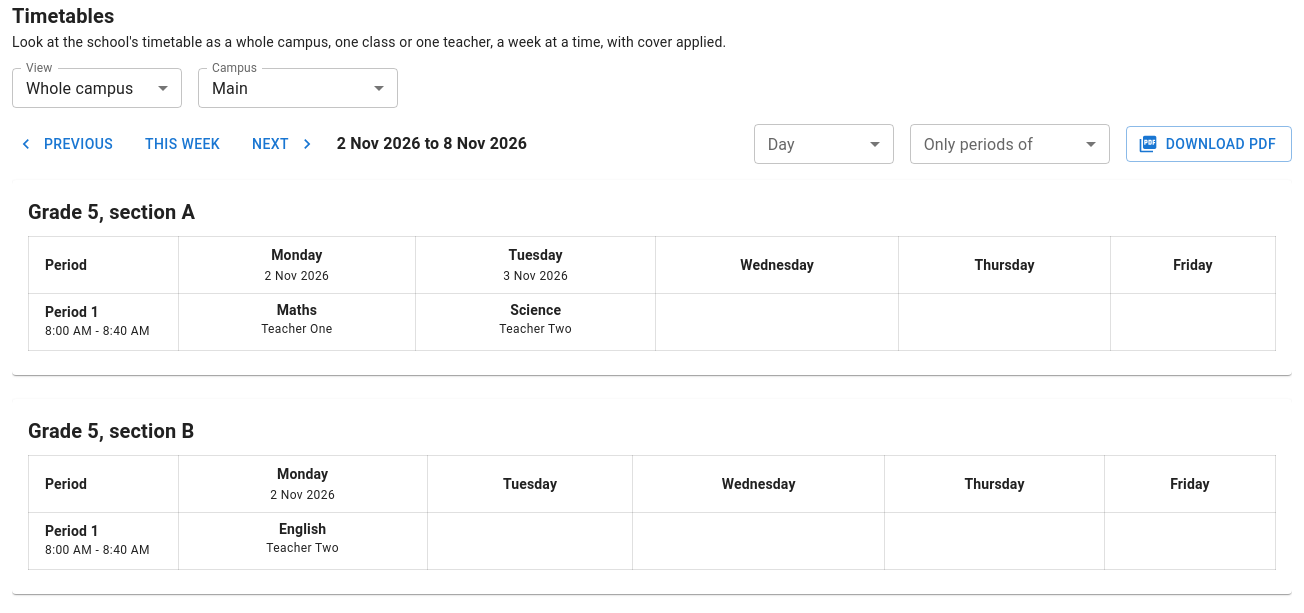
Test: TimetablesSection › shows a class's sections once a class is picked, listing only the campus's classes
The image size is (1304, 613).
expect the heading "Grade 5, section A" is shown: met, box x1=28 y1=200 x2=195 y2=224
Click the dropdown named "View": click(80, 88) x1=26 y1=78 x2=134 y2=98
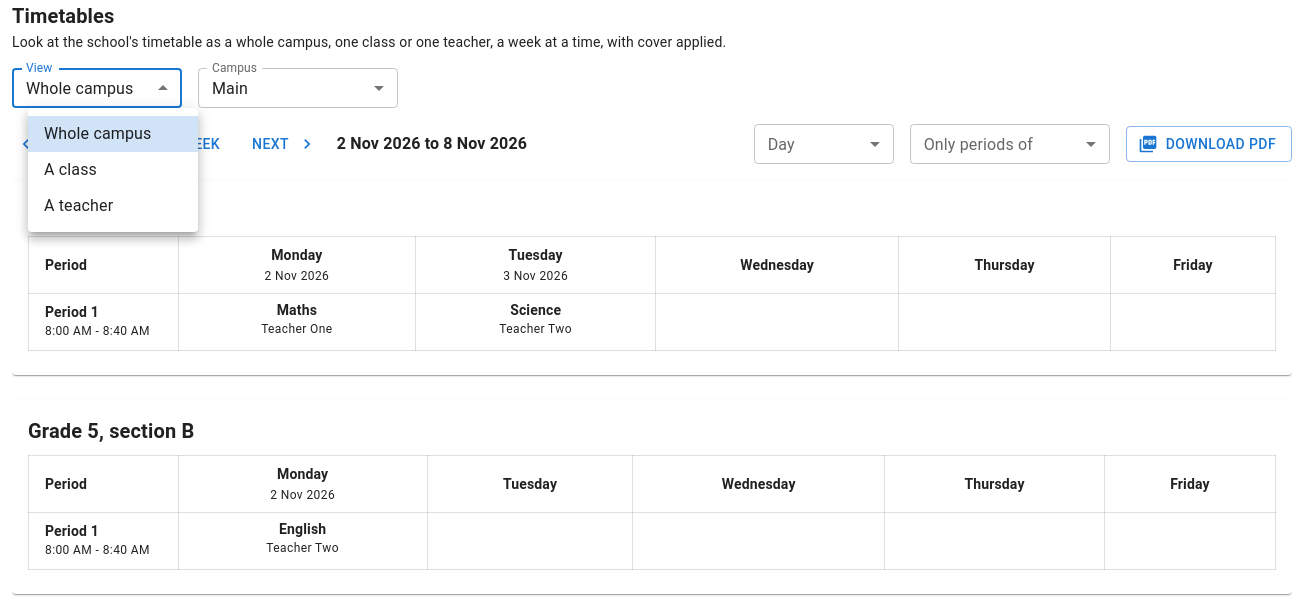
Click the option "A class": click(70, 170) x1=44 y1=160 x2=97 y2=179
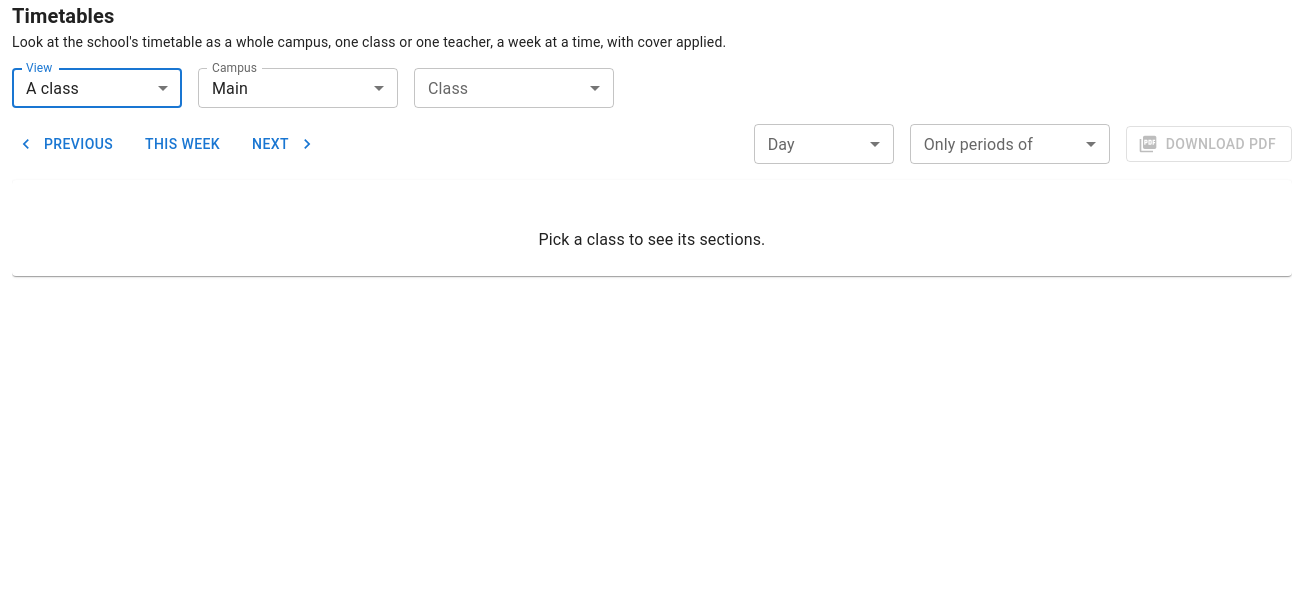
expect the text "Pick a class to see its sections." is shown: met, box x1=538 y1=230 x2=765 y2=249
Click the dropdown named "Class" in the row of "Main": click(514, 88) x1=414 y1=68 x2=614 y2=108
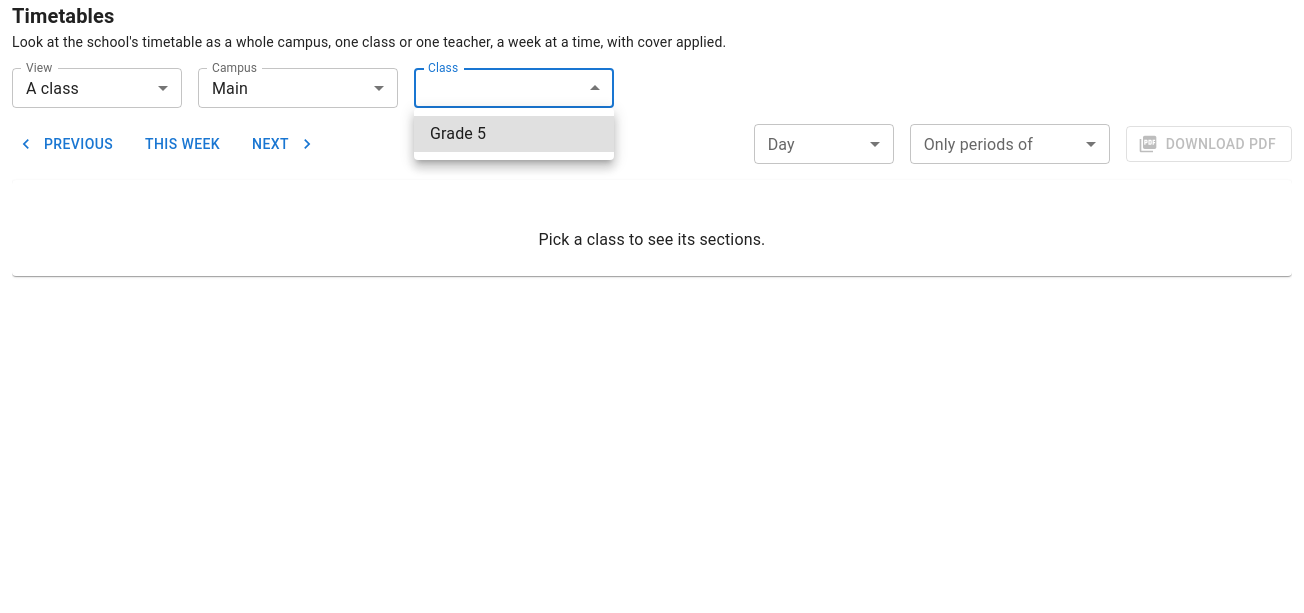
Click the option "Grade 5": click(514, 134) x1=414 y1=116 x2=614 y2=152
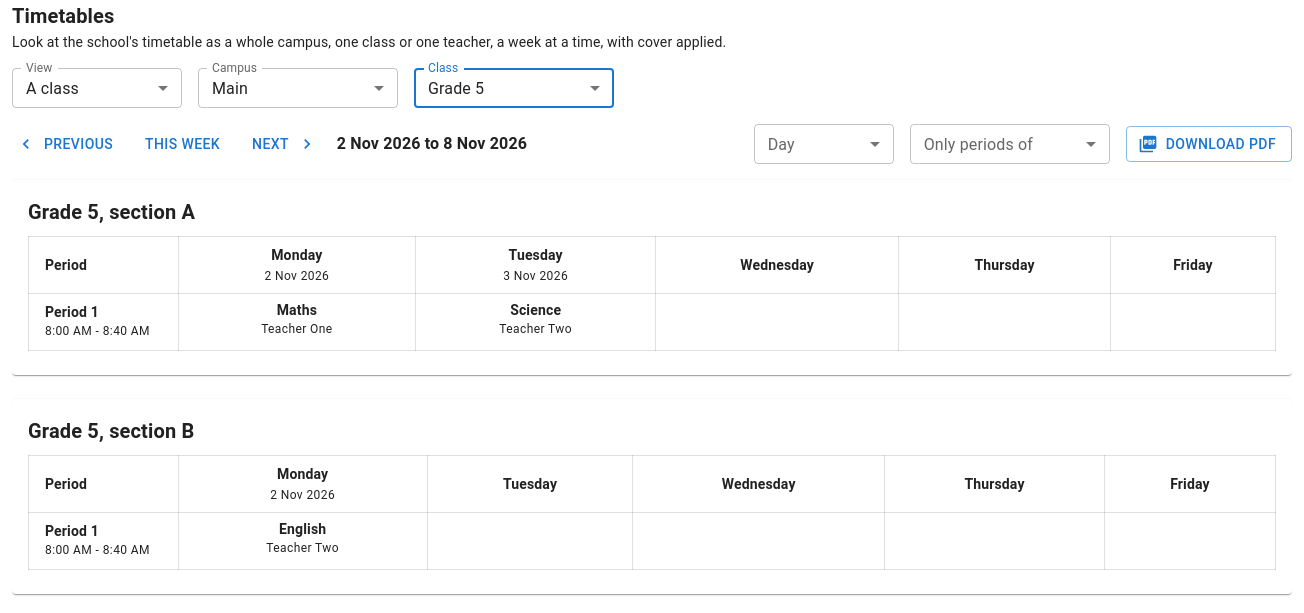
expect the heading "Grade 5, section B" is shown: met, box x1=28 y1=419 x2=194 y2=443
